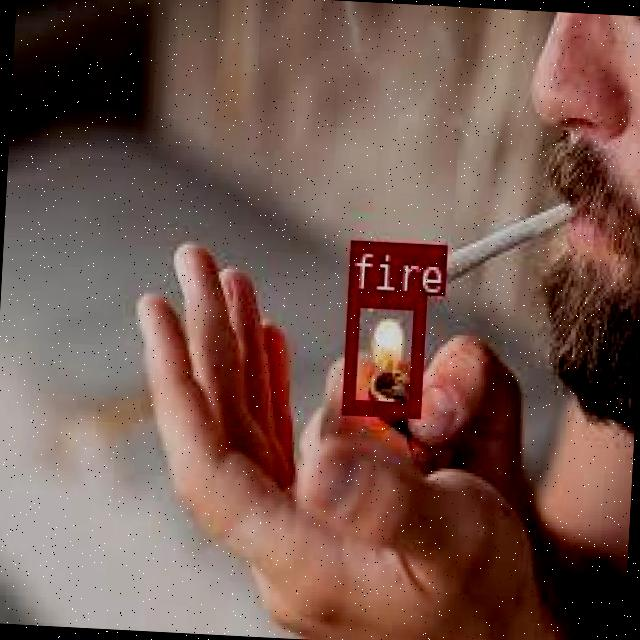fire: (340, 288, 422, 414)
